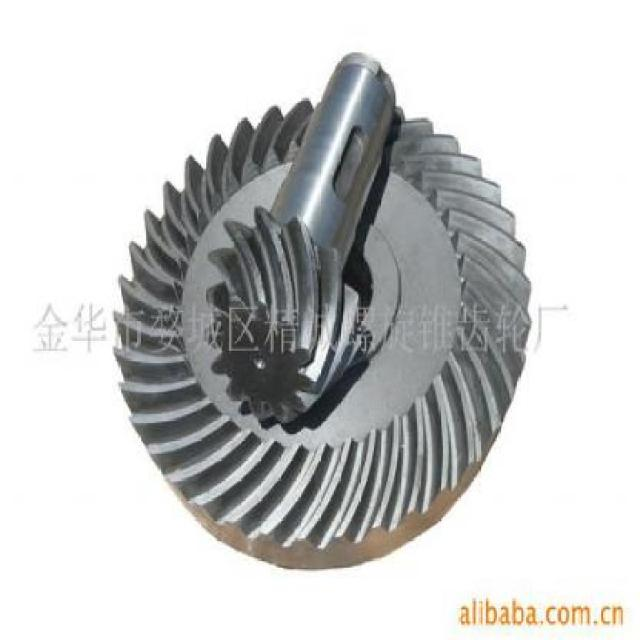Gear: (113, 95, 534, 572), (202, 205, 366, 426)
